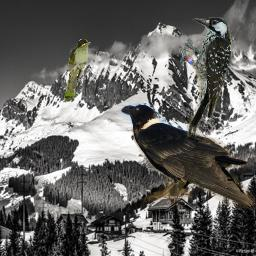Crow: (119, 101, 254, 208)
Cuckoo: (64, 39, 92, 103)
Woodpecker: (179, 17, 231, 137)
